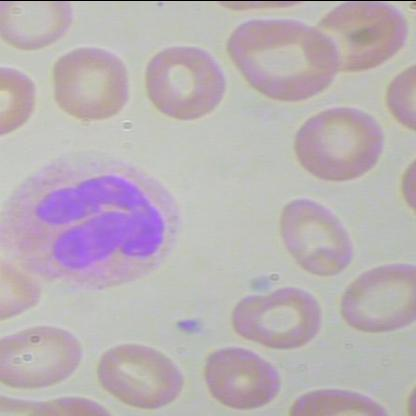Platelets: (172, 314, 204, 341)
RBC: (223, 14, 339, 104), (233, 276, 328, 360), (138, 40, 233, 124), (45, 42, 140, 126), (274, 196, 368, 280), (292, 100, 386, 184), (337, 257, 415, 344), (95, 339, 190, 409), (198, 346, 292, 411), (1, 326, 89, 394), (1, 1, 77, 52)
WBC: (1, 141, 196, 296)
